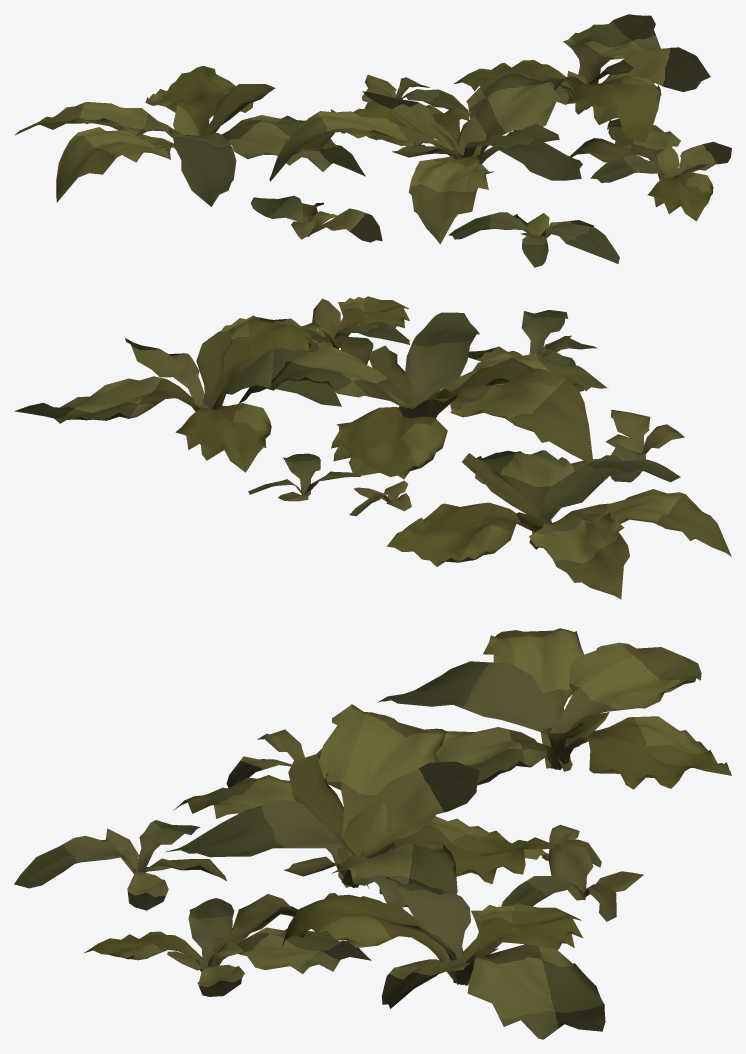
Rendered from ph_succulent_3.glb.
3 views of the same model, one above another, from view 1: azimuth 30°, elevation 25°; view 2: azimuth 150°, elevation 25°; view 3: azimuth 270°, elevation 25° (orthographic). The views are drawn at different scales.
Visible parts, largest first — view 1: ph_succulent_3_lod1; view 2: ph_succulent_3_lod1; view 3: ph_succulent_3_lod1.
Part boxes in pixels (<box>): ph_succulent_3_lod1: <box>14,14,731,267</box>; ph_succulent_3_lod1: <box>14,296,731,599</box>; ph_succulent_3_lod1: <box>14,628,731,1039</box>.
Size of the model in its own units: 0.638 by 0.0786 by 0.4991.
1 material, 1 textured.
